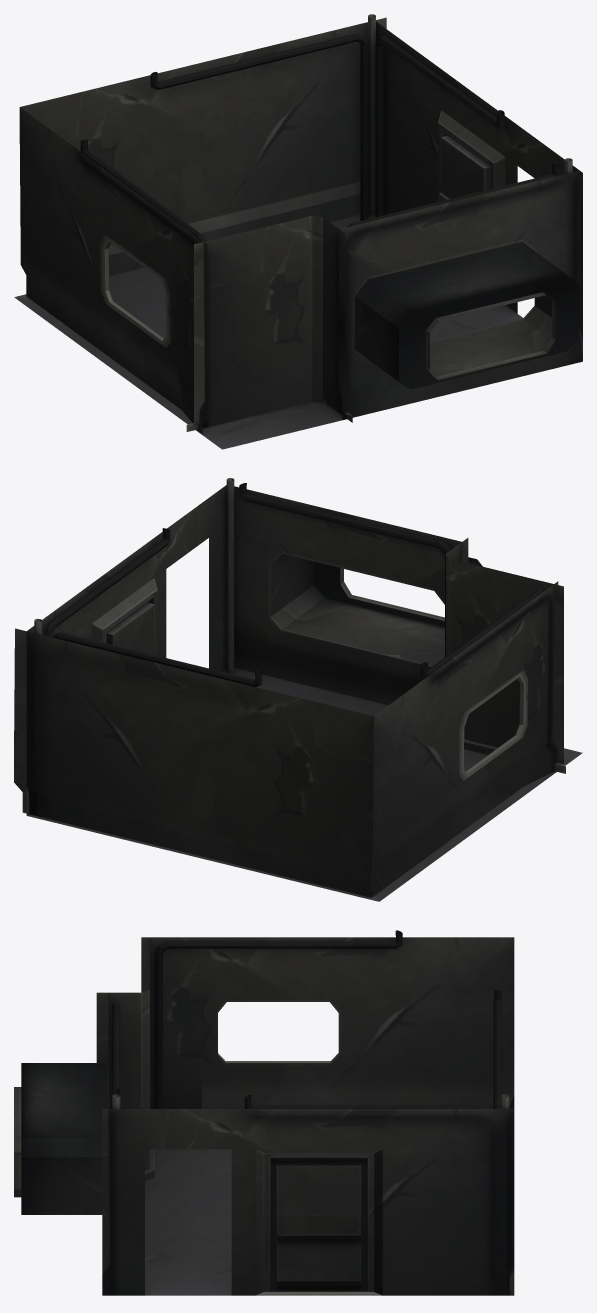
The model's file is Bedroom.fbx.
3 renders of one model, top to bottom at view 1: azimuth 30°, elevation 25°; view 2: azimuth 150°, elevation 25°; view 3: azimuth 270°, elevation 25°, orthographic. The views are drawn at different scales.
Visible parts, largest first — view 1: pCube17; view 2: pCube17; view 3: pCube17.
Part boxes in pixels (left/top/right/bottom): pCube17: left=14, top=14, right=582, bottom=449; pCube17: left=14, top=478, right=582, bottom=901; pCube17: left=14, top=930, right=514, bottom=1295.
Size of the model in its own units: 6.37 by 3.15 by 8.28.
